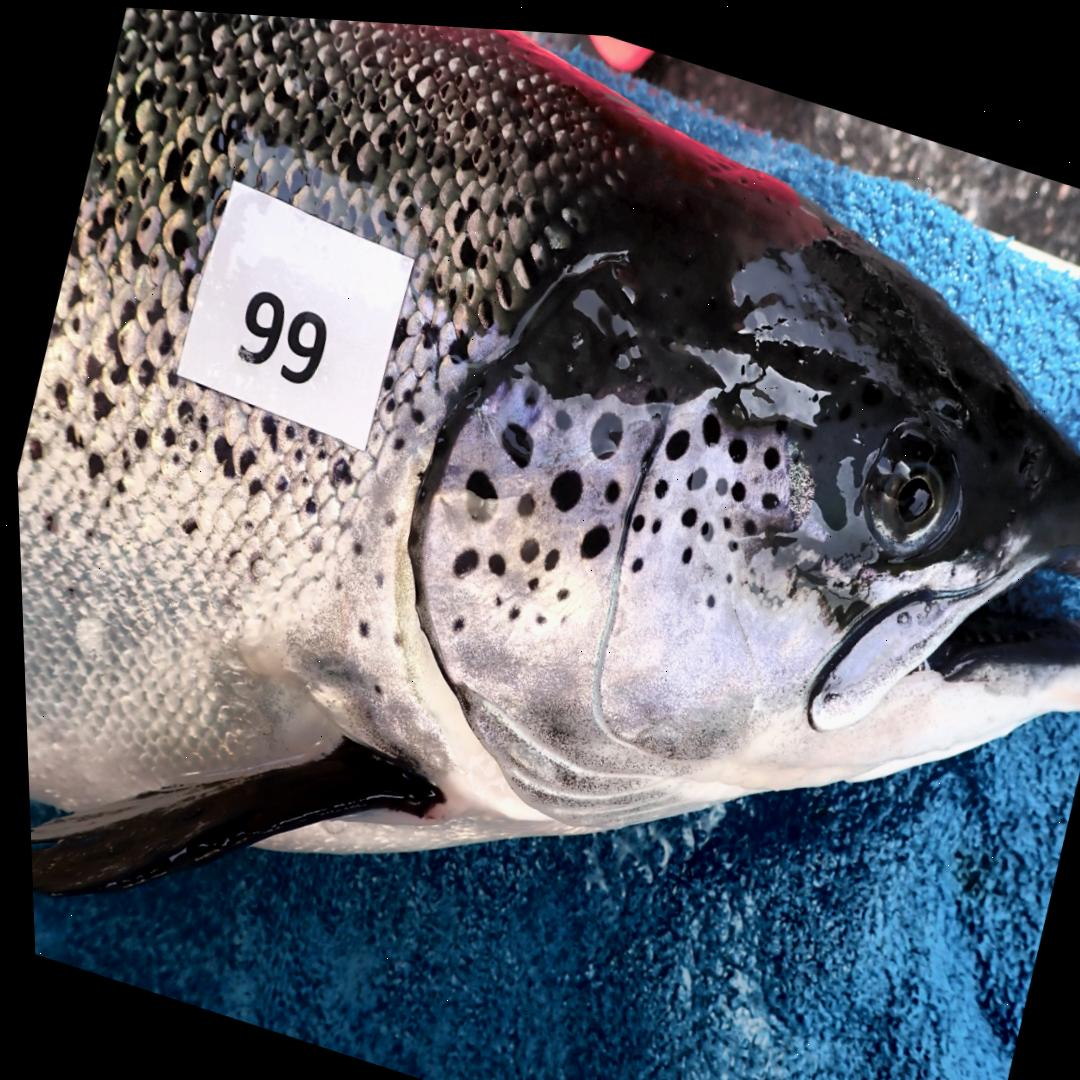spot: (586, 403, 619, 452), (461, 463, 492, 514), (497, 415, 530, 460), (545, 462, 578, 504), (575, 516, 606, 551), (662, 419, 685, 452), (448, 542, 474, 571), (643, 378, 665, 408), (699, 405, 717, 437), (515, 532, 535, 555), (483, 546, 502, 570), (725, 430, 744, 454), (599, 470, 617, 494), (758, 436, 776, 460), (514, 486, 531, 511), (683, 458, 702, 480), (539, 541, 555, 564), (552, 402, 570, 421), (726, 471, 742, 492), (677, 498, 693, 518), (521, 376, 536, 397), (757, 482, 775, 499), (650, 470, 664, 491), (627, 505, 640, 523), (711, 468, 724, 486), (697, 513, 709, 532), (677, 536, 688, 555), (739, 509, 752, 525), (627, 549, 639, 564), (646, 509, 657, 525), (552, 581, 564, 594), (448, 612, 458, 626), (504, 601, 514, 613), (524, 570, 533, 583), (719, 507, 727, 520), (724, 531, 733, 542), (701, 586, 709, 598), (530, 608, 541, 616), (491, 590, 497, 599), (721, 565, 727, 573)
